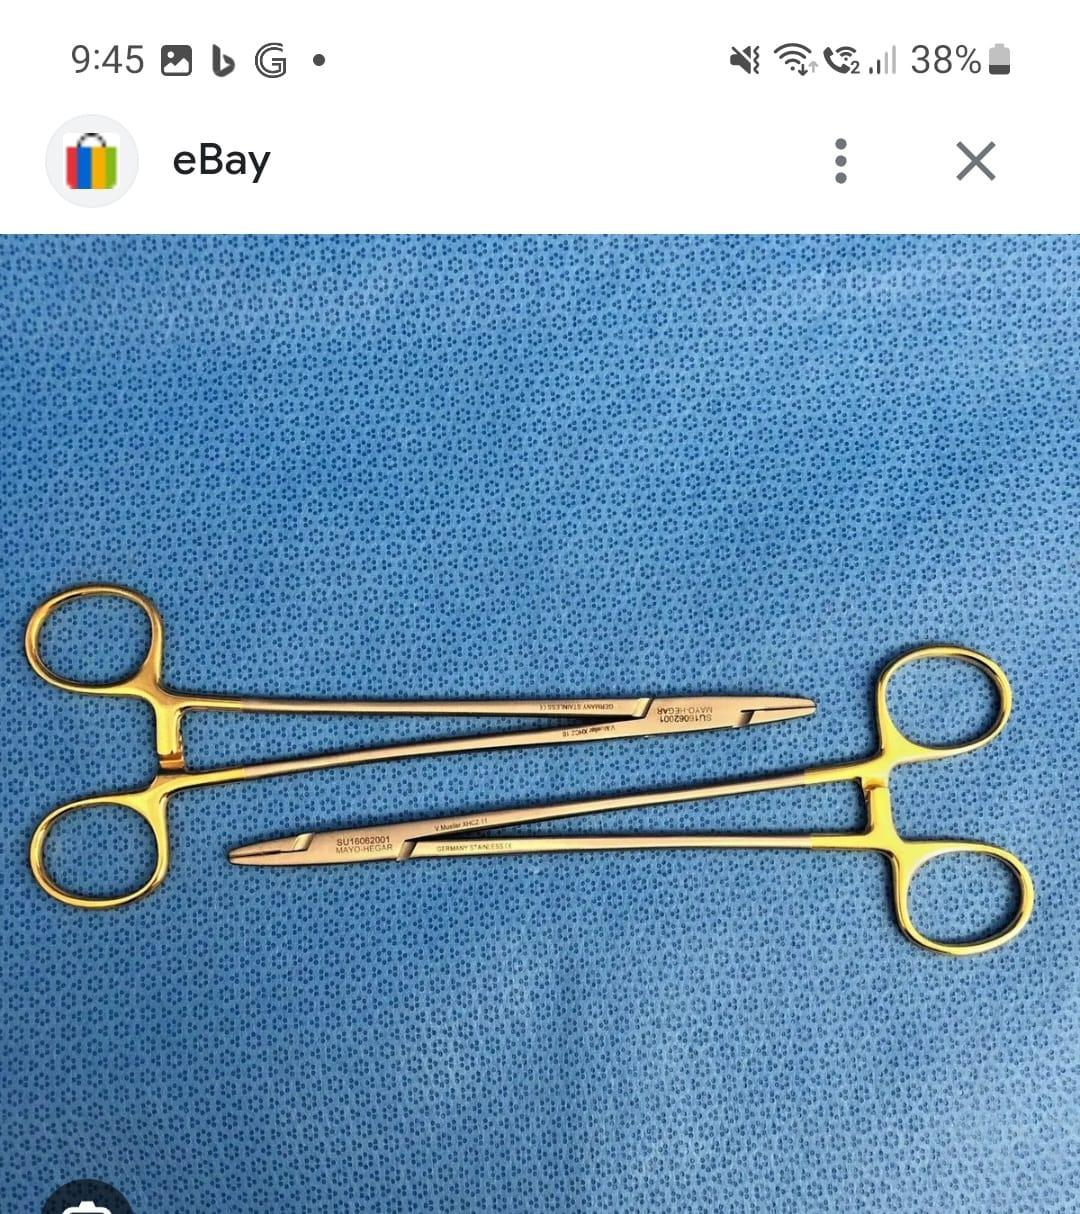Needle Holder: (222, 636, 1038, 958), (18, 586, 823, 910)
